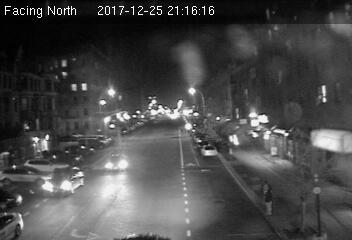car: (38, 167, 88, 193), (104, 154, 130, 173), (201, 144, 219, 158)
